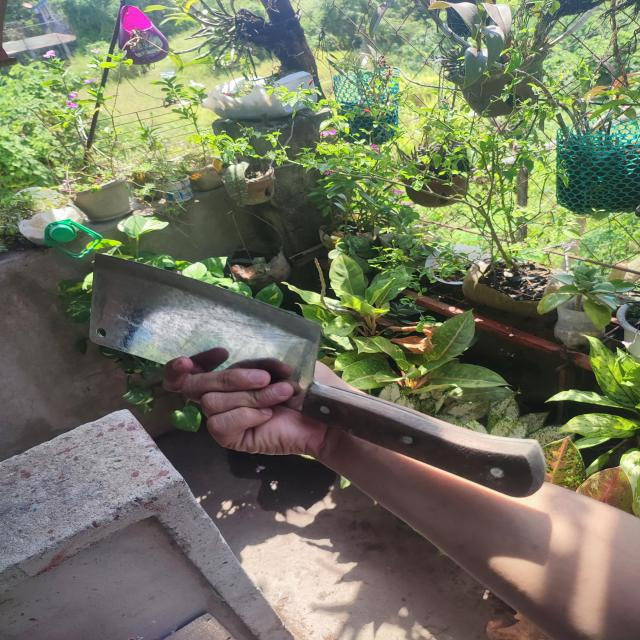knife: (89, 253, 545, 498)
